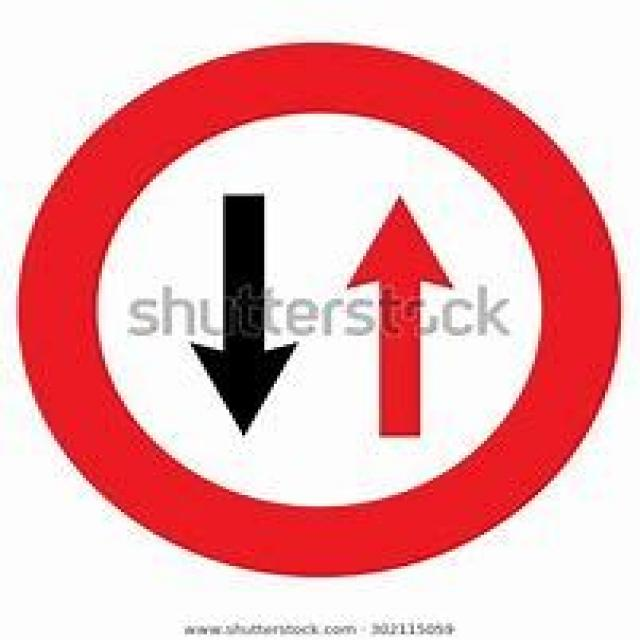PRIORITY_FOR_ONCOMING_VEHICLES: (10, 37, 618, 572)
